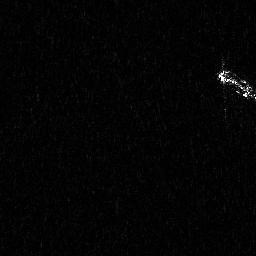ship: (213, 55, 256, 114)
